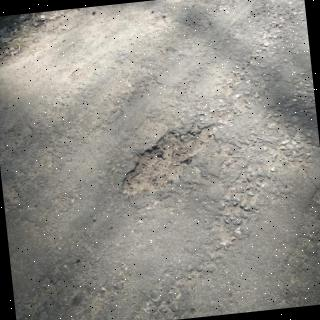pothole: (121, 126, 214, 198)
